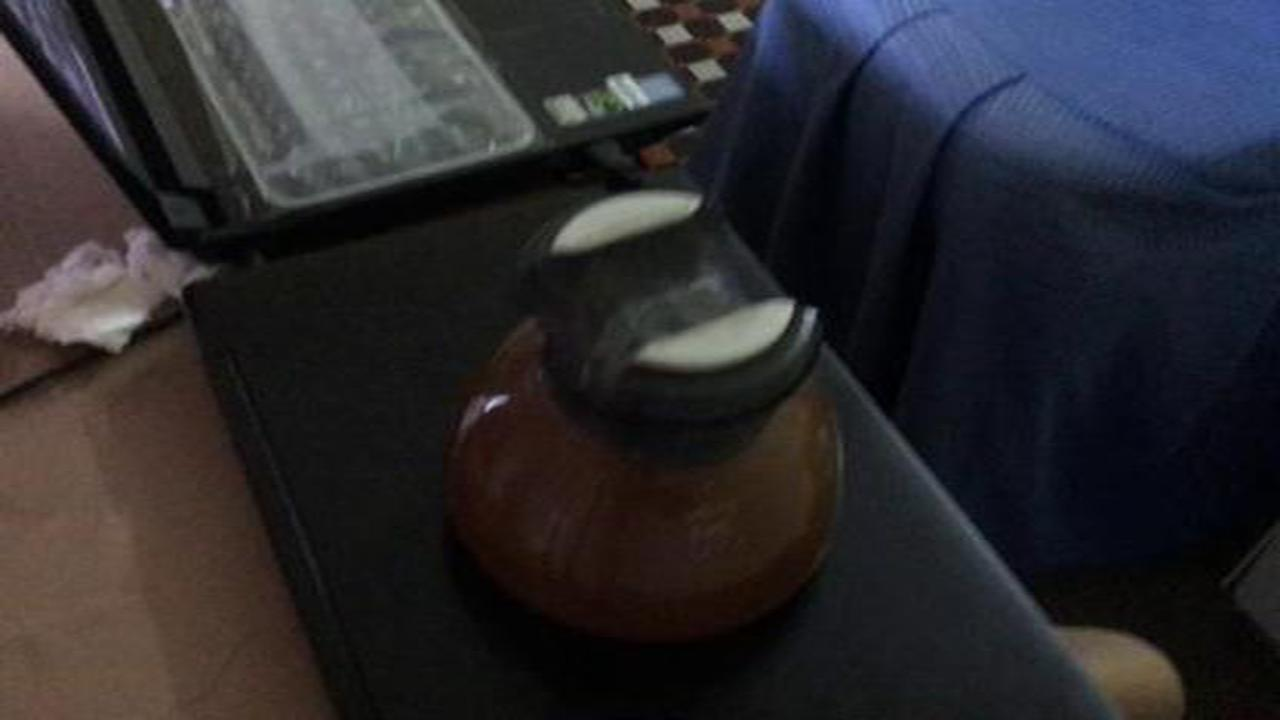insulator_pin: (425, 177, 874, 672)
